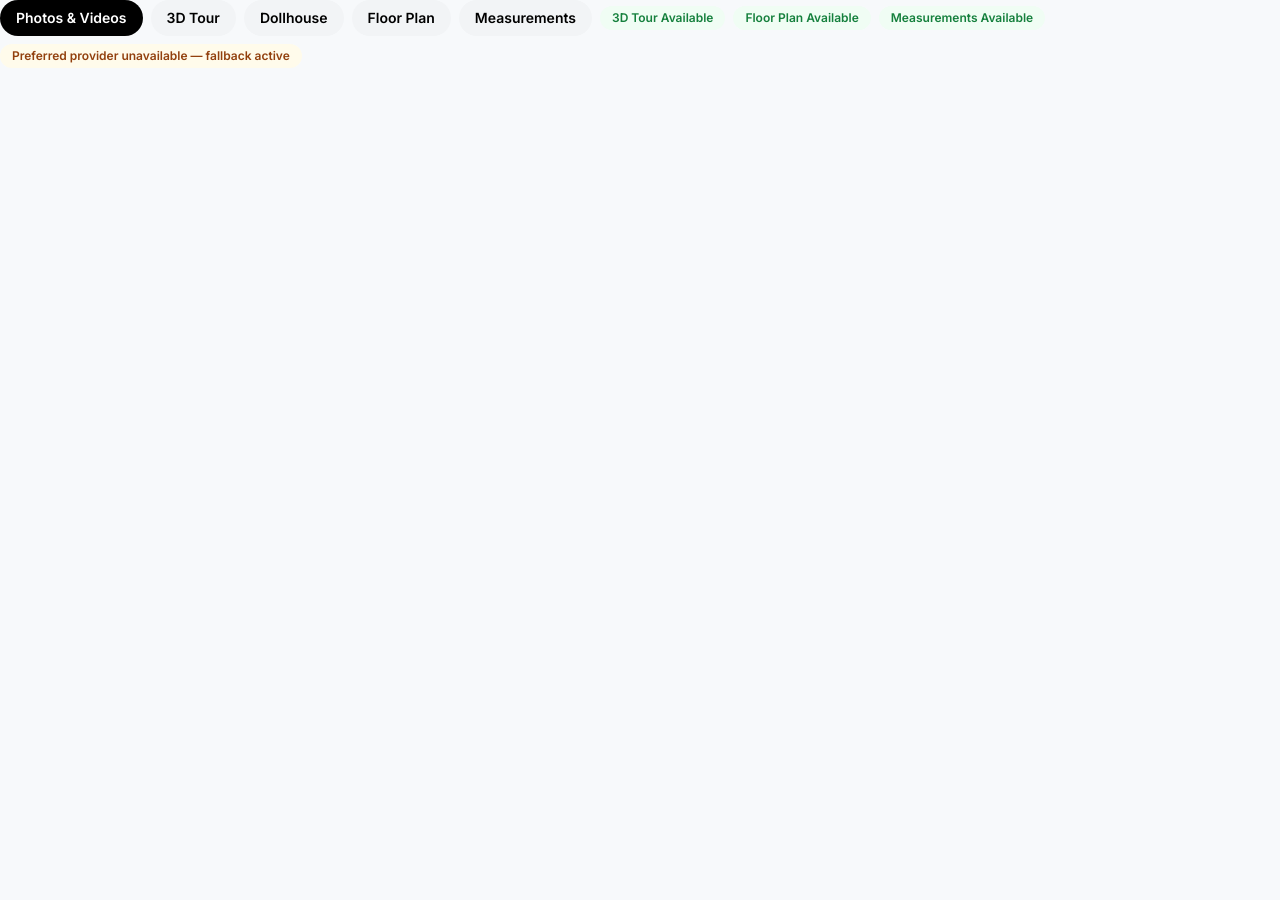
Test: VirtualTourExperience › requests floorplan only when its capability-gated tab opens and labels assets safely
This screenshot has width=1280, height=900.
Click the button "Floor Plan".
click(401, 18)  # box [352,0,451,36]
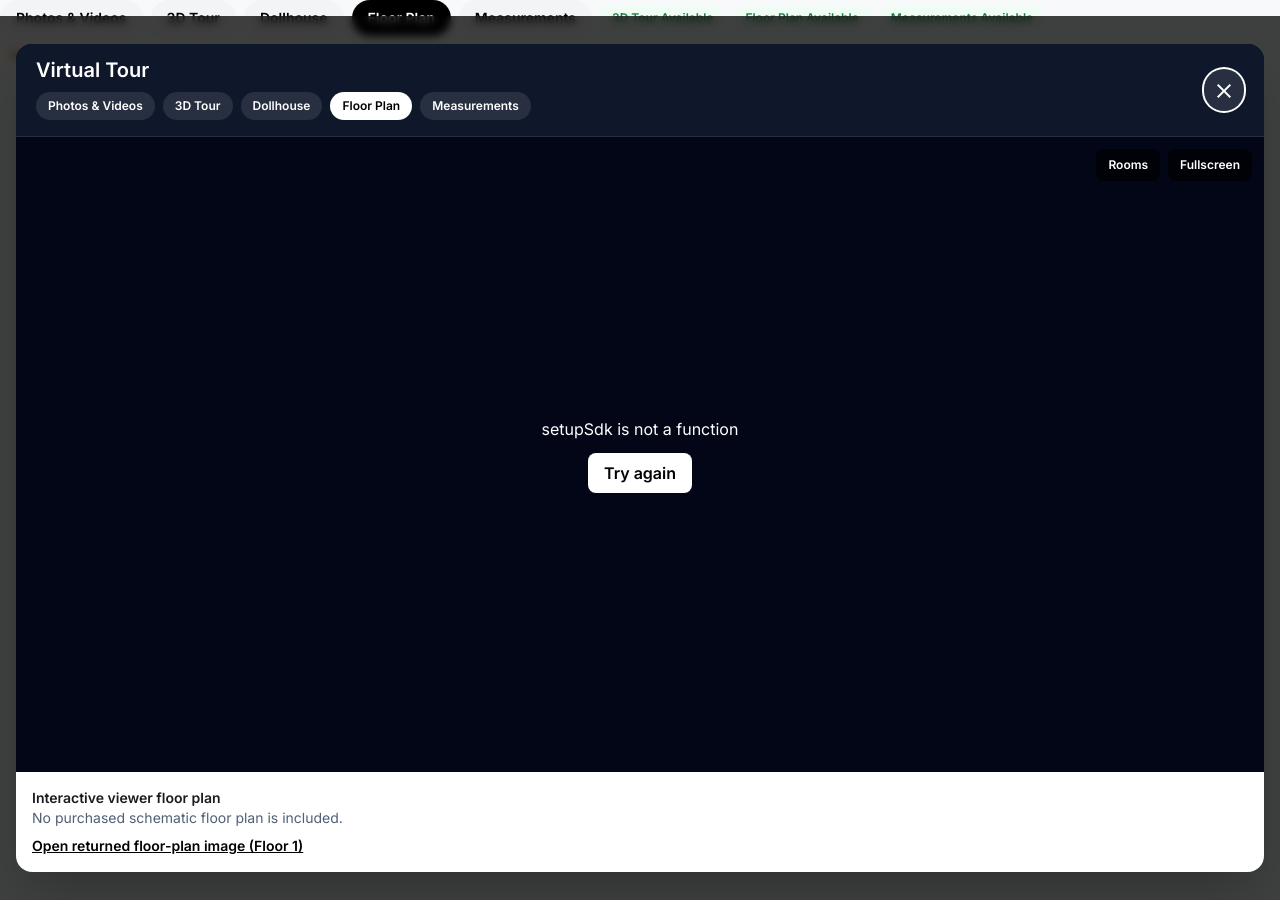
Now the text "Interactive viewer floor plan" is shown, box [32,789,221,806]
Now the text "No purchased schematic floor plan is included." is shown, box [32,809,343,826]
